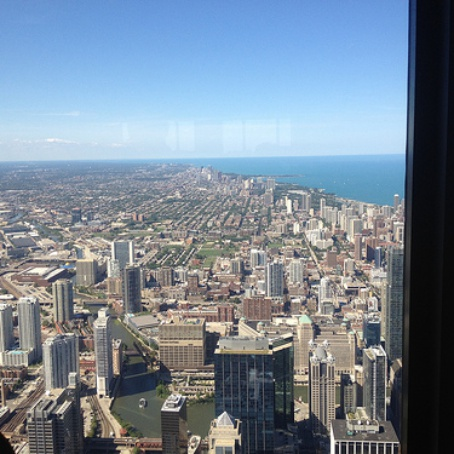building: (210, 331, 298, 454), (32, 395, 84, 454), (378, 243, 403, 364), (1, 292, 40, 368), (158, 314, 202, 375), (88, 309, 115, 395), (42, 331, 80, 392), (158, 390, 187, 454), (50, 276, 77, 328), (122, 265, 144, 316), (105, 239, 139, 268)
sea: (229, 154, 410, 204)
sky: (1, 1, 408, 147)
